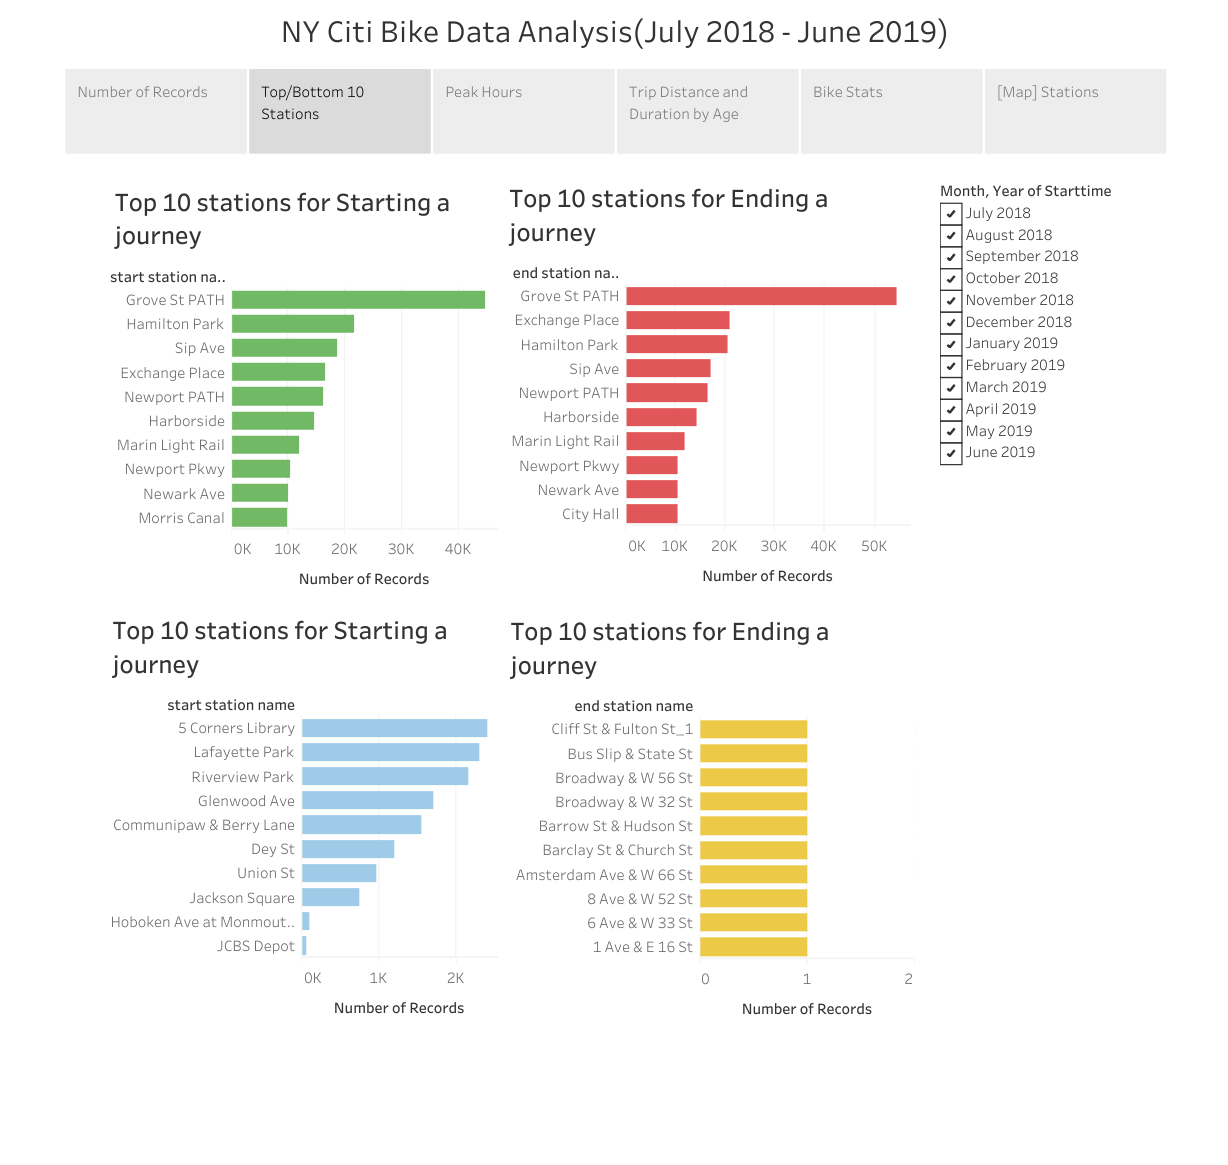

Layout of this report page (visuals, bound fields, positions):
{"tool":"tableau","page":{"name":"Top 10/Bottom 10","canvas":[1000,1000],"units":"permille","ordinal":4},"visuals":[{"type":"worksheet","title":"Top 10 (end) Stations","mark":"Automatic","rows":["end station name"],"cols":["Calculation_2171298008309485579"],"box":[392.9,0,394.1,441.1]},{"type":"filter","title":"Bottom 10 (start) Stations","param":"[federated.06t6mmk1ta8xqx1g6an2d0cdsx3z].[my:starttime:ok]","box":[811.8,0,188.2,325.6]},{"type":"worksheet","title":"Top 10 (start) Stations","mark":"Automatic","rows":["start station name"],"cols":["Calculation_2171298008309485579"],"box":[9.4,3.5,376.5,438.7]},{"type":"worksheet","title":"Bottom 10 (start) Stations","mark":"Automatic","rows":["start station name"],"cols":["Calculation_2171298008309485579"],"box":[7.1,438.7,378.8,457.4]},{"type":"worksheet","title":"Bottom 10 (end) Stations","mark":"Automatic","rows":["end station name"],"cols":["Calculation_2171298008309485579"],"box":[394.1,439.9,397.7,451.6]}]}

Visuals, with their boxes on the dashboard's canvas, which has no fixed pixel size, in thousandths of its width and height (x1, y1, x2, y2). These are canvas units, not pixel positions in the 1228x1165 screenshot, which may show the page scaled, cropped or inside an application window:
"Top 10 (end) Stations" worksheet: x1=393, y1=0, x2=787, y2=441
"Bottom 10 (start) Stations" filter: x1=812, y1=0, x2=1000, y2=326
"Top 10 (start) Stations" worksheet: x1=9, y1=4, x2=386, y2=442
"Bottom 10 (start) Stations" worksheet: x1=7, y1=439, x2=386, y2=896
"Bottom 10 (end) Stations" worksheet: x1=394, y1=440, x2=792, y2=892
